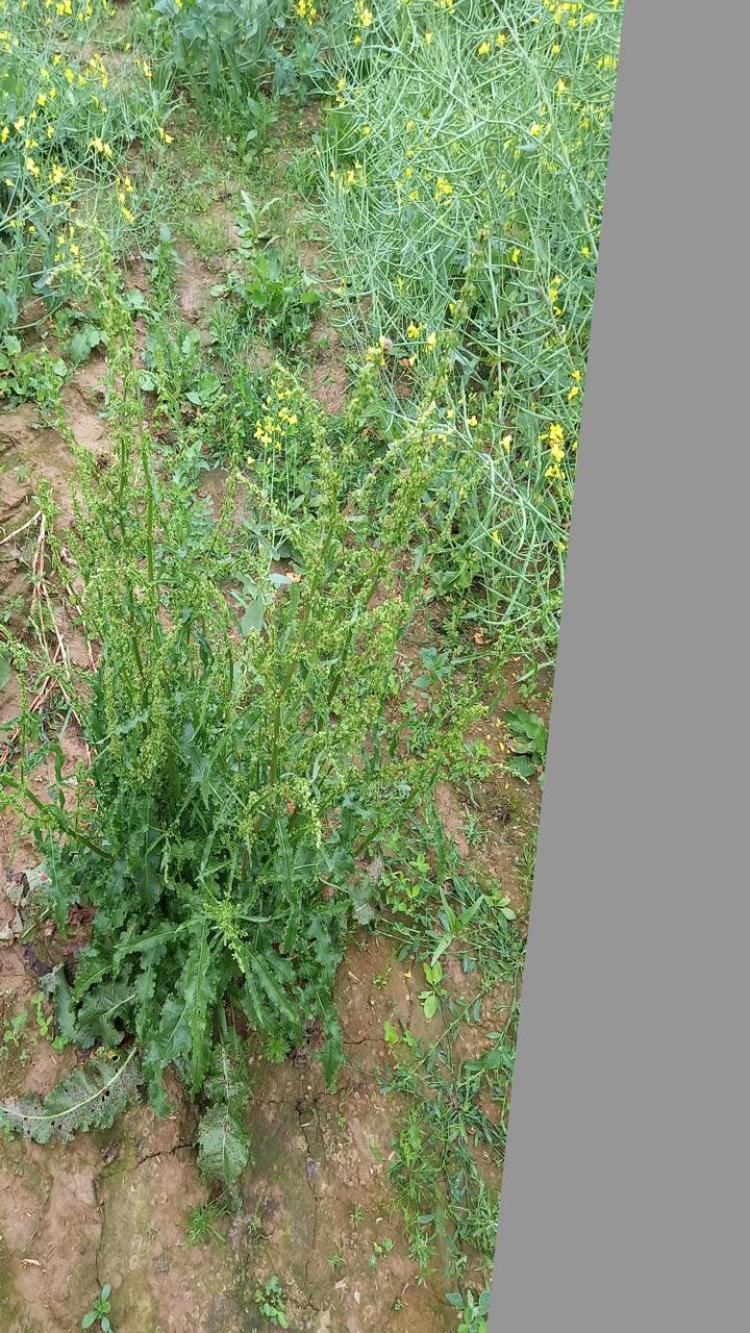zhavel: (0, 266, 485, 1189)
